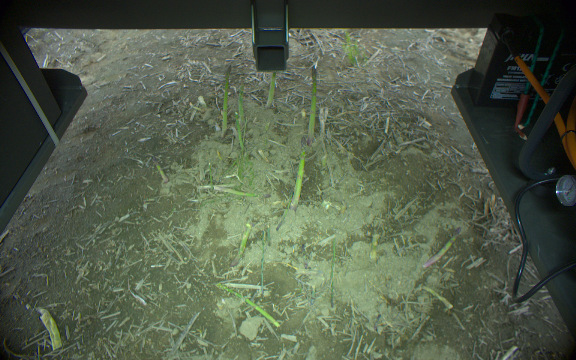aspa: (210, 280, 282, 328), (420, 225, 463, 269), (197, 183, 264, 205), (291, 135, 307, 212), (306, 62, 318, 135), (421, 284, 453, 309), (230, 111, 247, 155), (221, 64, 231, 135), (236, 221, 254, 257), (263, 72, 280, 109), (235, 82, 247, 124), (152, 159, 170, 187), (368, 232, 382, 263)
